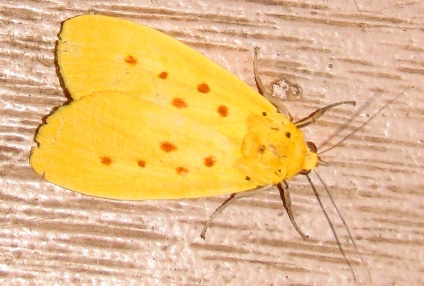Agape chloropyga: (27, 14, 410, 286)
moth: (25, 12, 408, 284)
